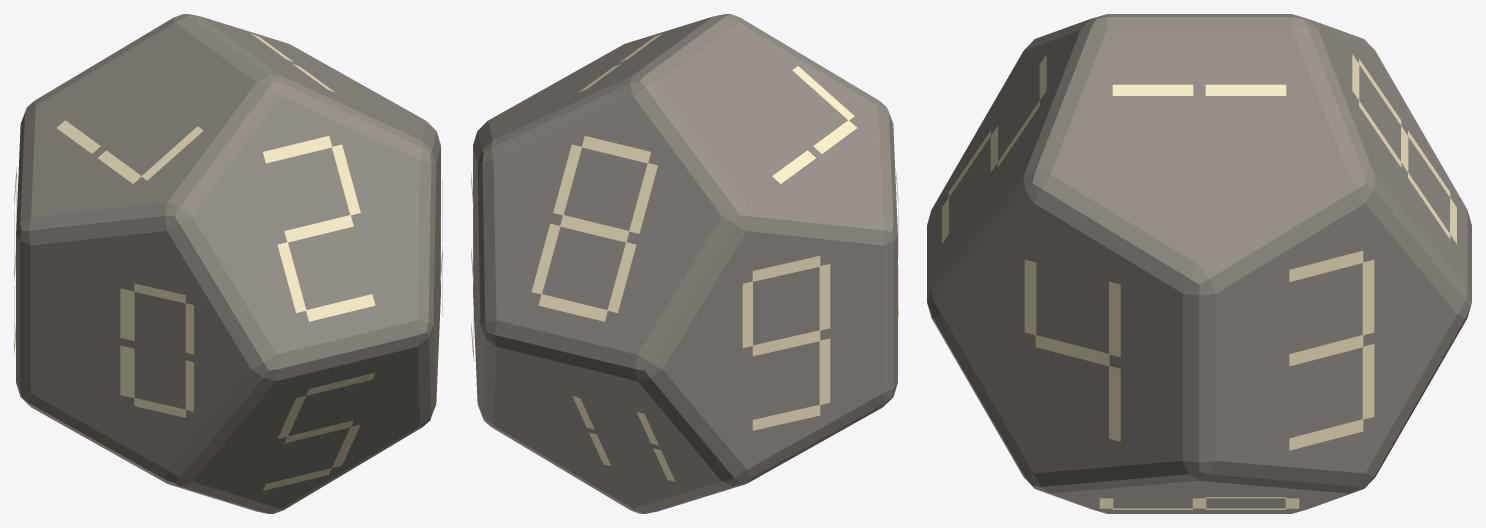
3 views of the same model, side by side, from view 1: azimuth 30°, elevation 25°; view 2: azimuth 150°, elevation 25°; view 3: azimuth 270°, elevation 25° (orthographic). The views are drawn at different scales.
Visible parts, largest first — view 1: RenderMesh, GlyphMesh; view 2: RenderMesh, GlyphMesh; view 3: RenderMesh, GlyphMesh.
Part boxes in pixels (left/top/right/bottom): RenderMesh: left=16, top=14, right=440, bottom=513; GlyphMesh: left=14, top=33, right=442, bottom=490; RenderMesh: left=473, top=14, right=897, bottom=513; GlyphMesh: left=471, top=33, right=898, bottom=481; RenderMesh: left=927, top=14, right=1471, bottom=513; GlyphMesh: left=942, top=54, right=1456, bottom=509.
Size of what is drawn, in the model's own units: 0.029 by 0.029 by 0.029.
